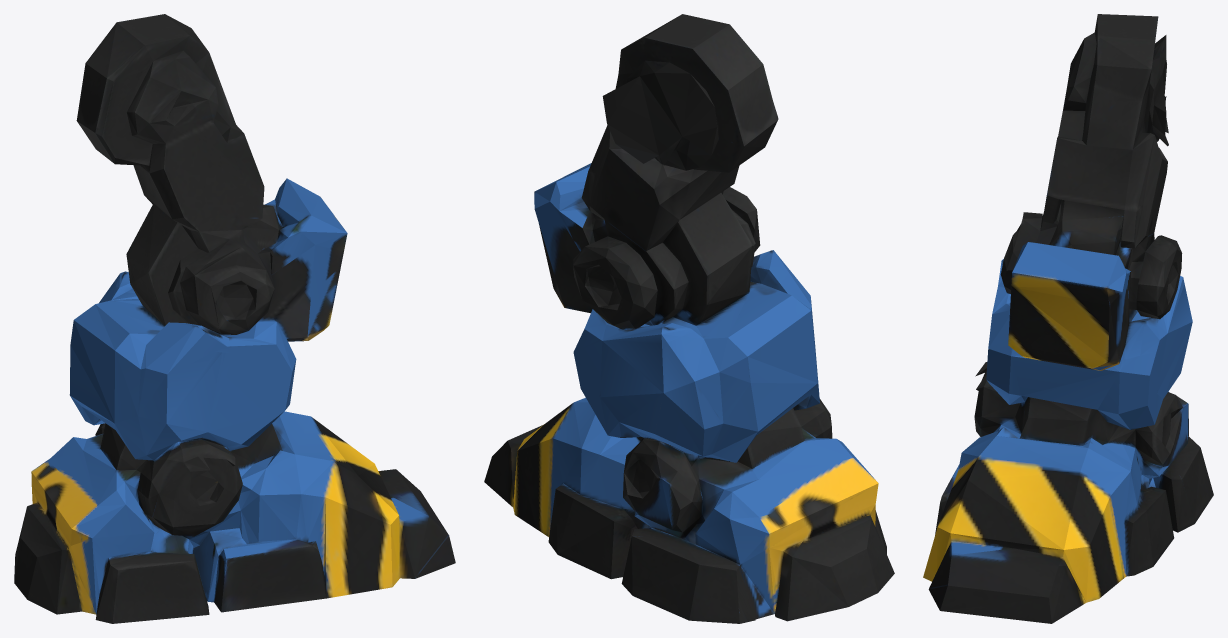
Rendered from SM_HeavyDebris_Leg_R.fbx.
3 renders of one model, left to right at view 1: azimuth 30°, elevation 25°; view 2: azimuth 150°, elevation 25°; view 3: azimuth 270°, elevation 25°, orthographic. The views are drawn at different scales.
Parts seen in each view (by area): view 1: SM_HeavyDebris_Leg_R; view 2: SM_HeavyDebris_Leg_R; view 3: SM_HeavyDebris_Leg_R.
Part boxes in pixels (x1,y1,x2,y2): SM_HeavyDebris_Leg_R: (14, 14, 455, 623); SM_HeavyDebris_Leg_R: (484, 14, 894, 623); SM_HeavyDebris_Leg_R: (923, 14, 1213, 623).
Size of the model in its own units: 113 by 144 by 77.02.
1 material, 1 textured.
